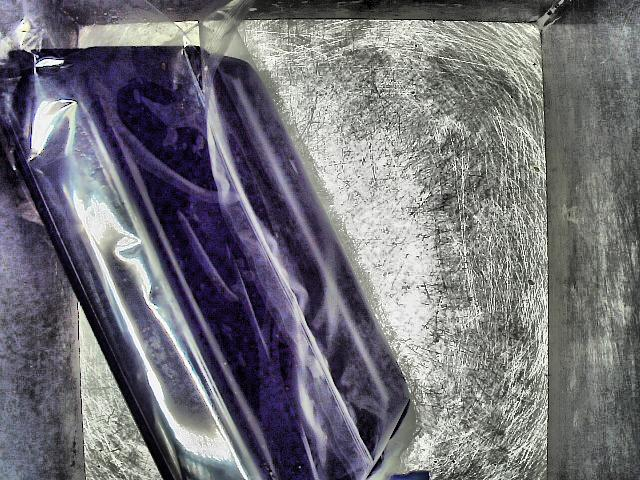Plastic: (10, 8, 417, 480)
